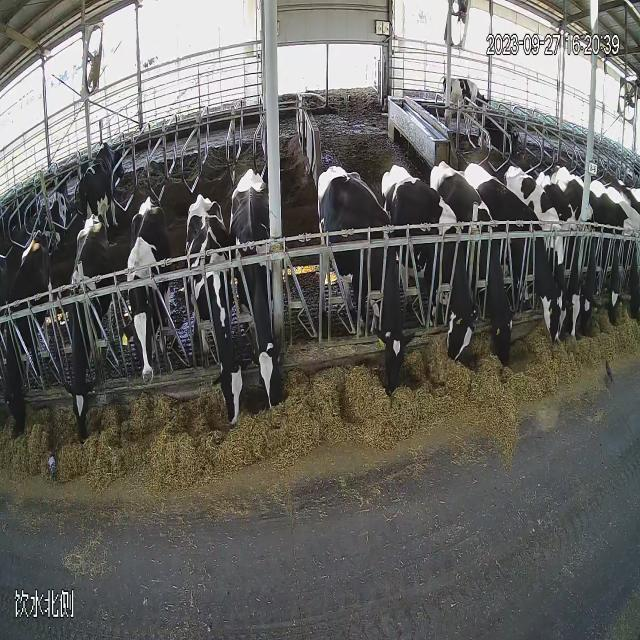feeding: (310, 152, 418, 424), (458, 148, 568, 378), (430, 154, 528, 403), (386, 157, 486, 389), (224, 162, 297, 437), (54, 208, 122, 476), (182, 186, 247, 453), (498, 154, 570, 355), (0, 224, 61, 452), (554, 162, 602, 342), (586, 172, 628, 332), (614, 196, 640, 333)
lying down: (26, 147, 75, 257)
standing: (113, 175, 180, 408), (426, 63, 501, 154), (75, 128, 134, 235)
